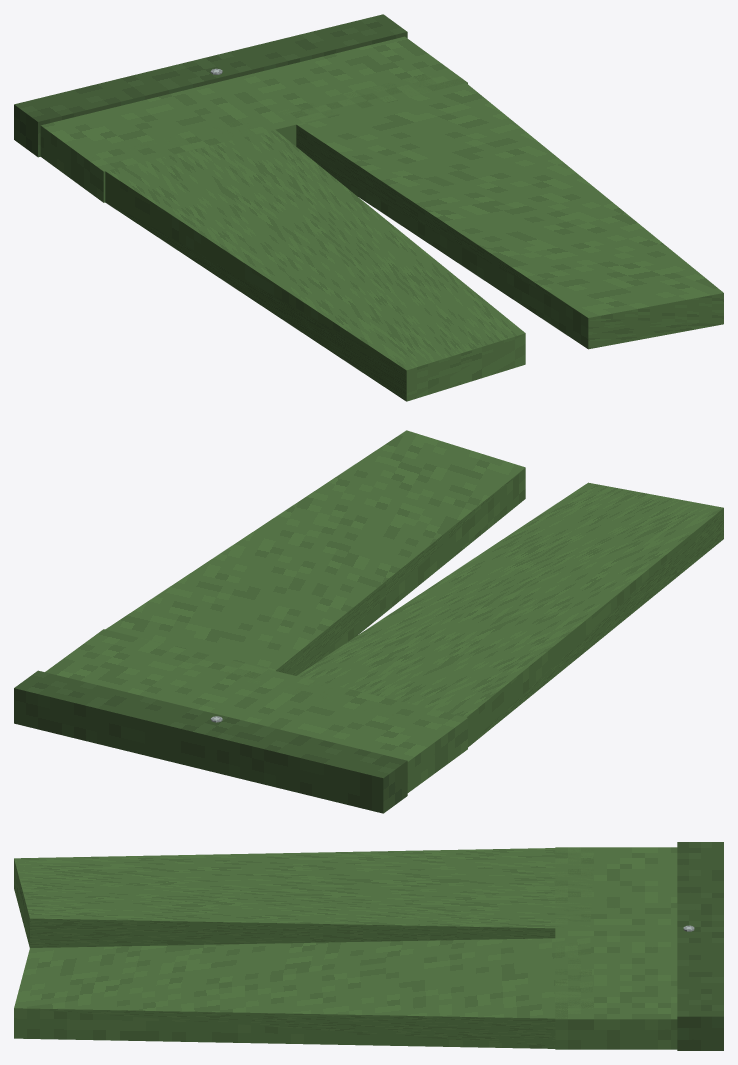
File: pants_army.glb
3 renders of one model, top to bottom at view 1: azimuth 30°, elevation 25°; view 2: azimuth 150°, elevation 25°; view 3: azimuth 270°, elevation 25°, orthographic. The views are drawn at different scales.
Parts seen in each view (by area): view 1: block_leg 1, block_leg -1, block_seat, block_waistband; view 2: block_leg -1, block_leg 1, block_seat, block_waistband; view 3: block_leg 1, block_leg -1, block_seat, block_waistband.
Part boxes in pixels (left/top/right/bottom): block_leg 1: left=278, top=68, right=723, bottom=349; block_leg -1: left=86, top=118, right=525, bottom=401; block_seat: left=40, top=36, right=467, bottom=202; block_waistband: left=14, top=14, right=407, bottom=157; block_leg -1: left=278, top=482, right=723, bottom=747; block_leg 1: left=105, top=430, right=525, bottom=683; block_seat: left=45, top=629, right=467, bottom=792; block_waistband: left=14, top=670, right=407, bottom=813; block_leg 1: left=14, top=937, right=593, bottom=1048; block_leg -1: left=14, top=847, right=594, bottom=947; block_seat: left=555, top=847, right=677, bottom=1049; block_waistband: left=677, top=842, right=723, bottom=1050.
Size of the model in its own units: 0.1856 by 0.0176 by 0.3189.
Materials: 1 (1 with a texture image).
